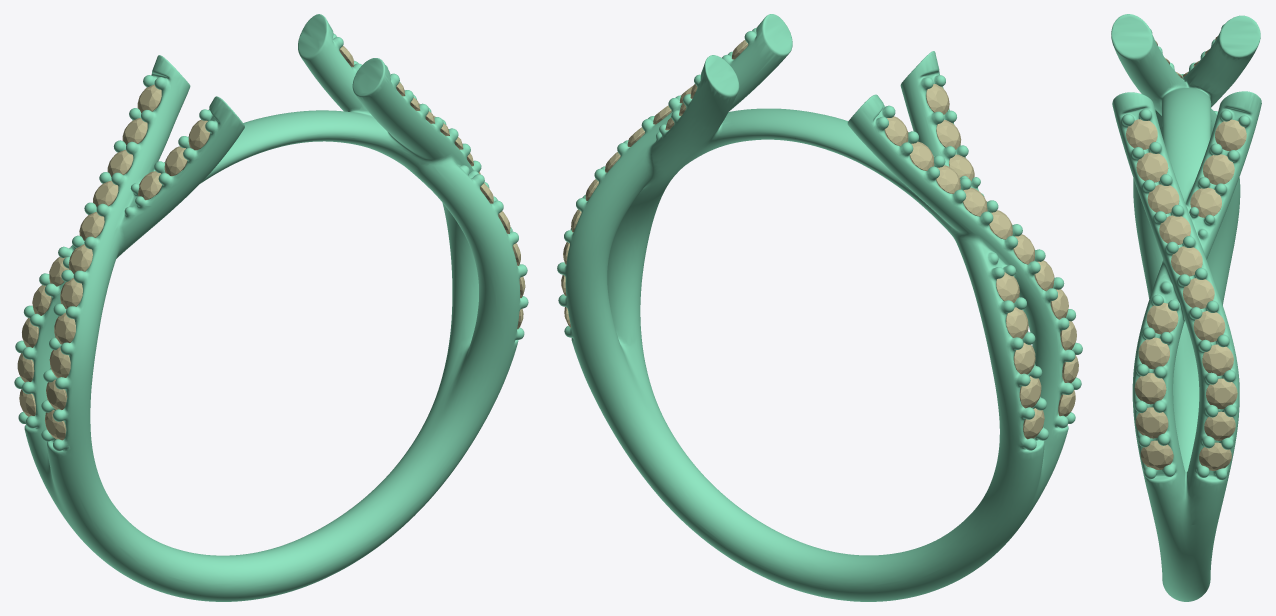
3 renders of one model, left to right at view 1: azimuth 30°, elevation 25°; view 2: azimuth 150°, elevation 25°; view 3: azimuth 270°, elevation 25°, orthographic. The views are drawn at different scales.
Parts seen in each view (by area): view 1: Metal02; view 2: Metal02; view 3: Metal02, Diamond_Gem.006, Diamond_Gem.001, Diamond_Gem.003, Diamond_Gem.007, Diamond_Gem.018, Diamond_Gem, Diamond_Gem.015, Diamond_Gem.017, Diamond_Gem.004, Diamond_Gem.009, Diamond_Gem.008 (+8 smaller).
Part boxes in pixels (box(x1,y1,x2,y2)): Metal02: box(14, 14, 528, 601); Metal02: box(557, 14, 1082, 601); Metal02: box(1111, 14, 1261, 601); Diamond_Gem.006: box(1215, 119, 1246, 151); Diamond_Gem.001: box(1138, 337, 1169, 369); Diamond_Gem.003: box(1135, 407, 1168, 438); Diamond_Gem.007: box(1203, 154, 1234, 184); Diamond_Gem.018: box(1193, 311, 1225, 342); Diamond_Gem: box(1134, 373, 1166, 404); Diamond_Gem.015: box(1183, 278, 1214, 308); Diamond_Gem.017: box(1202, 344, 1233, 375); Diamond_Gem.004: box(1146, 303, 1178, 334); Diamond_Gem.009: box(1126, 119, 1157, 149); Diamond_Gem.008: box(1136, 152, 1168, 182).
Size of the model in its own units: 21.37 by 22.79 by 5.93.
